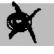not correct: (6, 0, 41, 45)
